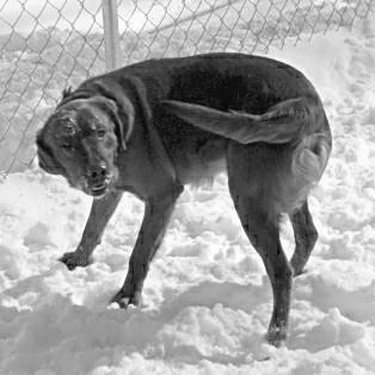dog: (32, 42, 336, 350)
